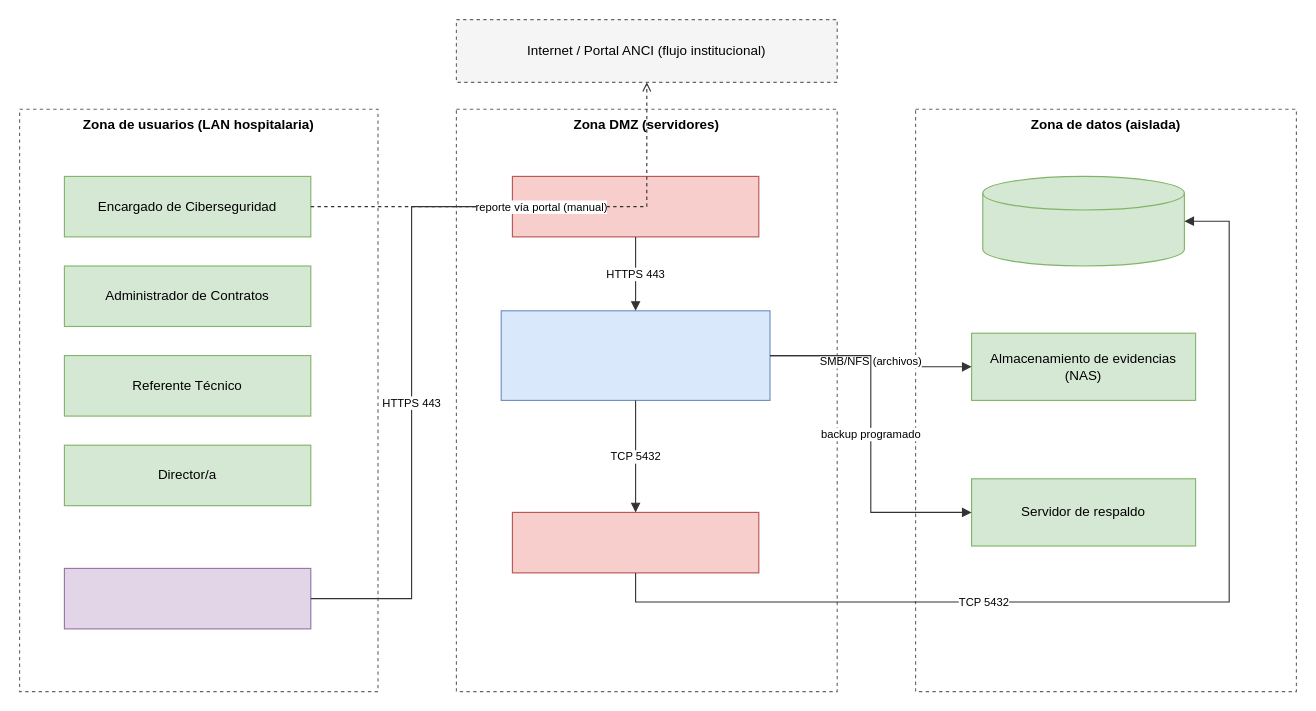
The diagram is 1316 pixels wide and 711 high, and some of its shapes have lost their labels. The shapes that lost their labels are listed below. From the top down, each one's centre as x and y in pixels, then its label:
At [635,206]: "Firewall perimetral".
At [1083,220]: "PostgreSQL".
At [635,355]: "Servidor web/aplicación (Frontend SPA + FastAPI/uvicorn)".
At [635,542]: "Firewall interno (BD)".
At [187,598]: "Switch de acceso".
